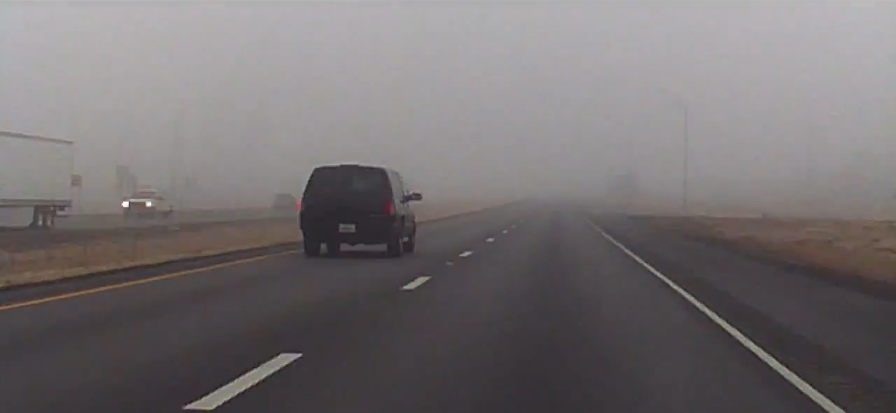car: (297, 163, 424, 259), (118, 185, 173, 216), (268, 189, 298, 217)
